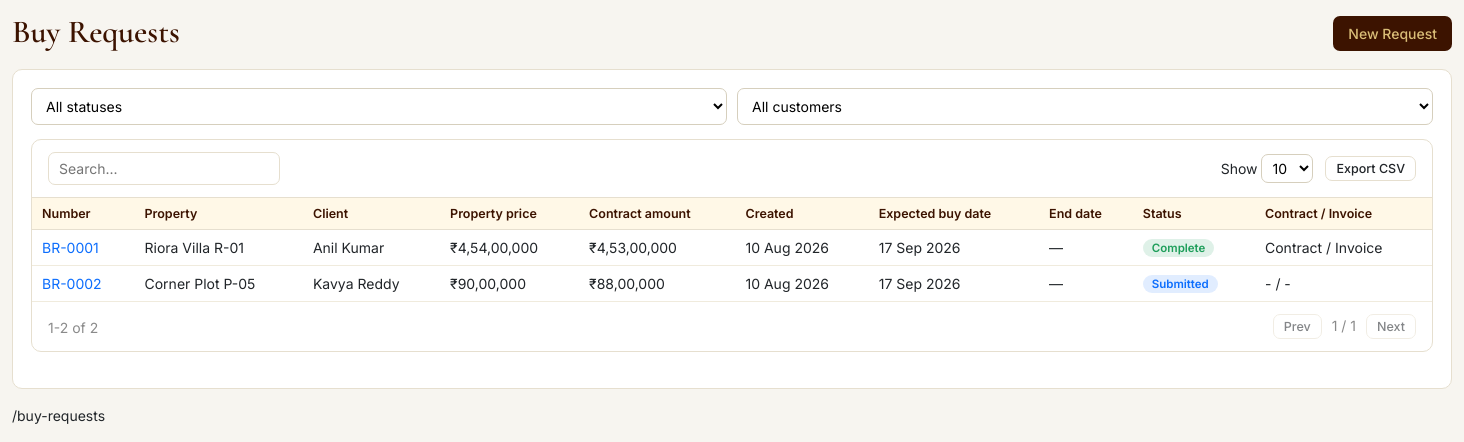
Requests list (PLAN §7) › status filter narrows rows; a status with no rows shows empty state
The width and height of the screenshot is (1464, 442).
Expected: the link "BR-0001" is shown, x1=42 y1=239 x2=99 y2=256
Select "Complete" in the 1st dropdown showing "All statuses". click: (379, 106)
box: x1=31 y1=88 x2=727 y2=125
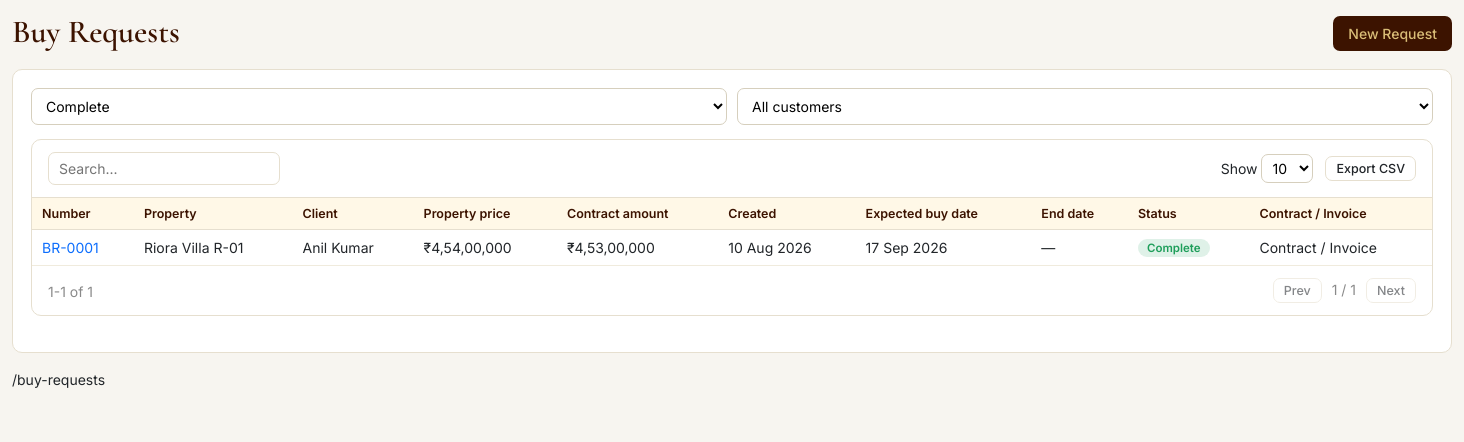
Expected: the link "BR-0001" is shown, x1=42 y1=239 x2=99 y2=256
Result: the link "BR-0002" is gone
Select "Expired" in the 1st dropdown showing "Complete". click: (379, 106)
box: x1=31 y1=88 x2=727 y2=125
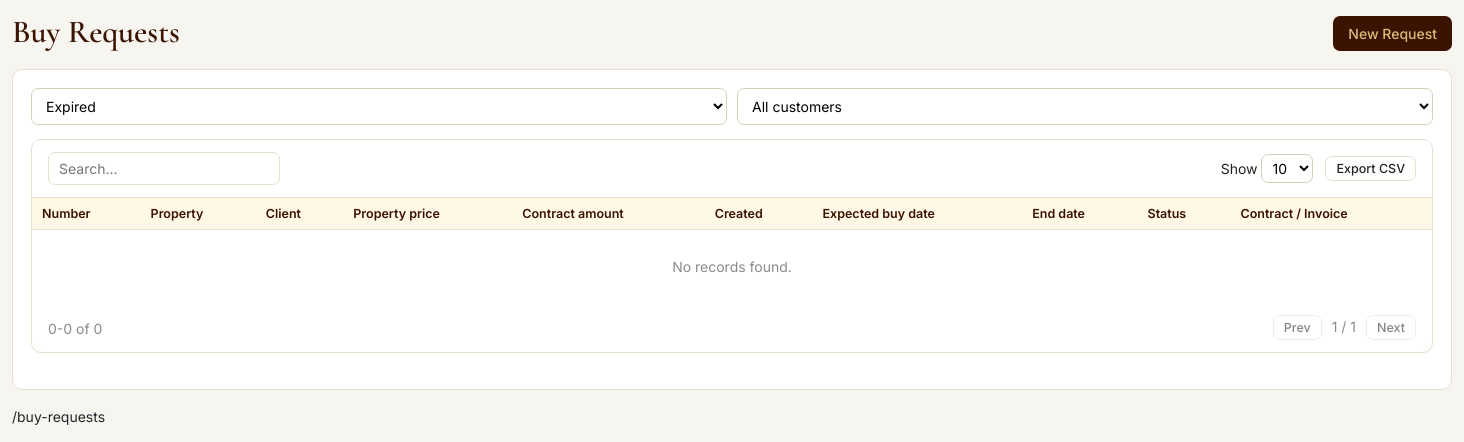
Result: the link "BR-0001" is gone
Result: the text "No records found." is shown at x1=672 y1=258 x2=792 y2=275
Select "All statuses" in the 1st dropdown showing "Expired". click: (379, 106)
box: x1=31 y1=88 x2=727 y2=125
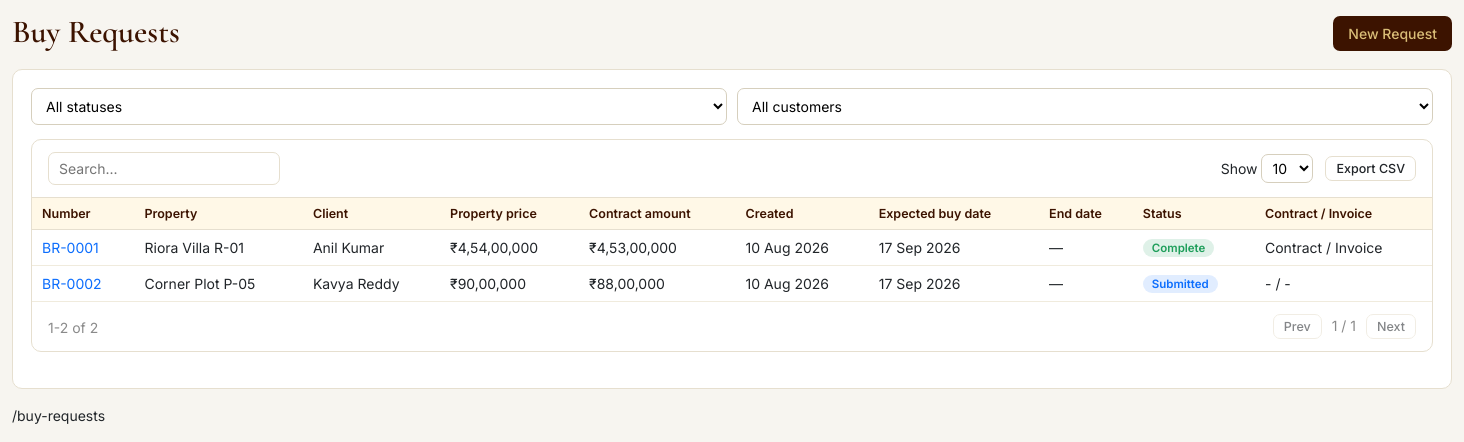
Result: the link "BR-0002" is shown at x1=42 y1=275 x2=102 y2=292
